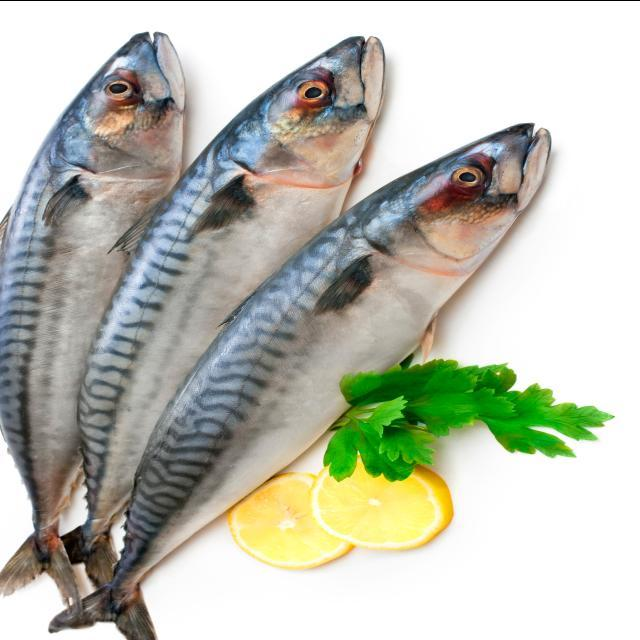fish: (48, 122, 549, 639), (60, 35, 383, 588), (0, 30, 184, 605)
